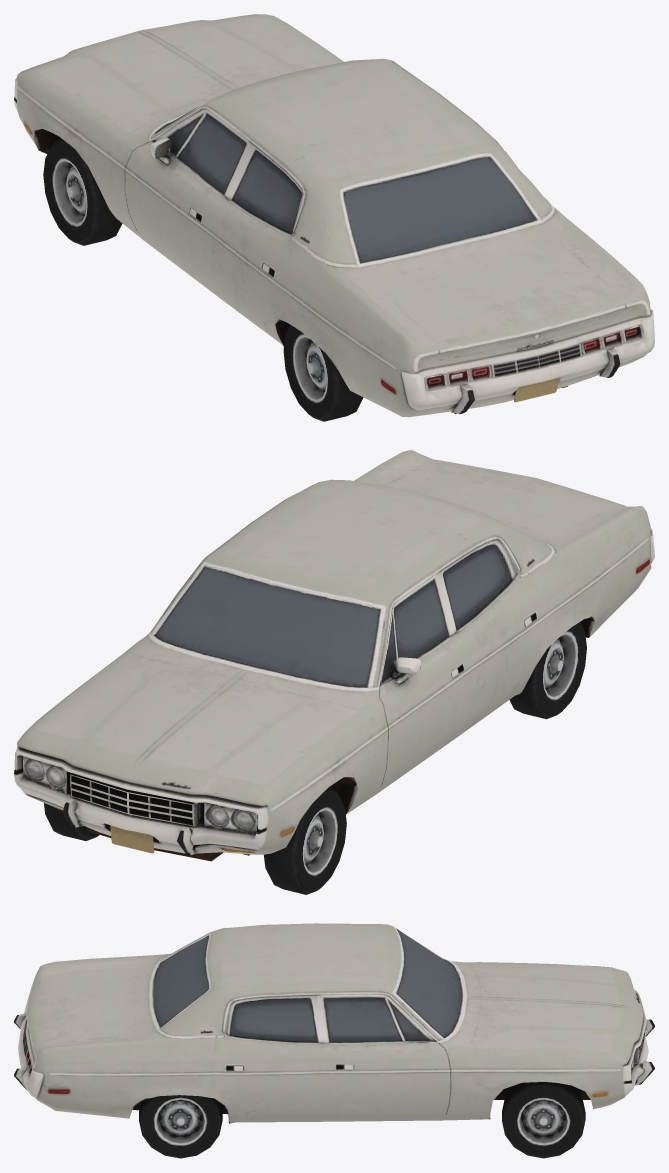
Rendered from amc-matador-sedan-4e0876.glb.
The picture shows the model from 3 angles, top to bottom: view 1: azimuth 30°, elevation 25°; view 2: azimuth 150°, elevation 25°; view 3: azimuth 270°, elevation 25°; orthographic projection. The views are drawn at different scales.
Parts seen in each view (by area): view 1: body, wheel-back-right, wheel-front-right; view 2: body, wheel-back-right, wheel-front-right; view 3: body, wheel-back-left, wheel-front-left.
Part boxes in pixels (<box>): body: <box>14,14,654,421</box>; wheel-back-right: <box>43,138,98,245</box>; wheel-front-right: <box>283,325,338,421</box>; body: <box>14,450,654,894</box>; wheel-back-right: <box>291,787,346,894</box>; wheel-front-right: <box>531,622,586,718</box>; body: <box>14,923,654,1158</box>; wheel-back-left: <box>505,1086,581,1156</box>; wheel-front-left: <box>142,1095,218,1156</box>.
Size of the model in its own units: 2.24 by 1.71 by 6.08.
1 material, 1 textured.
